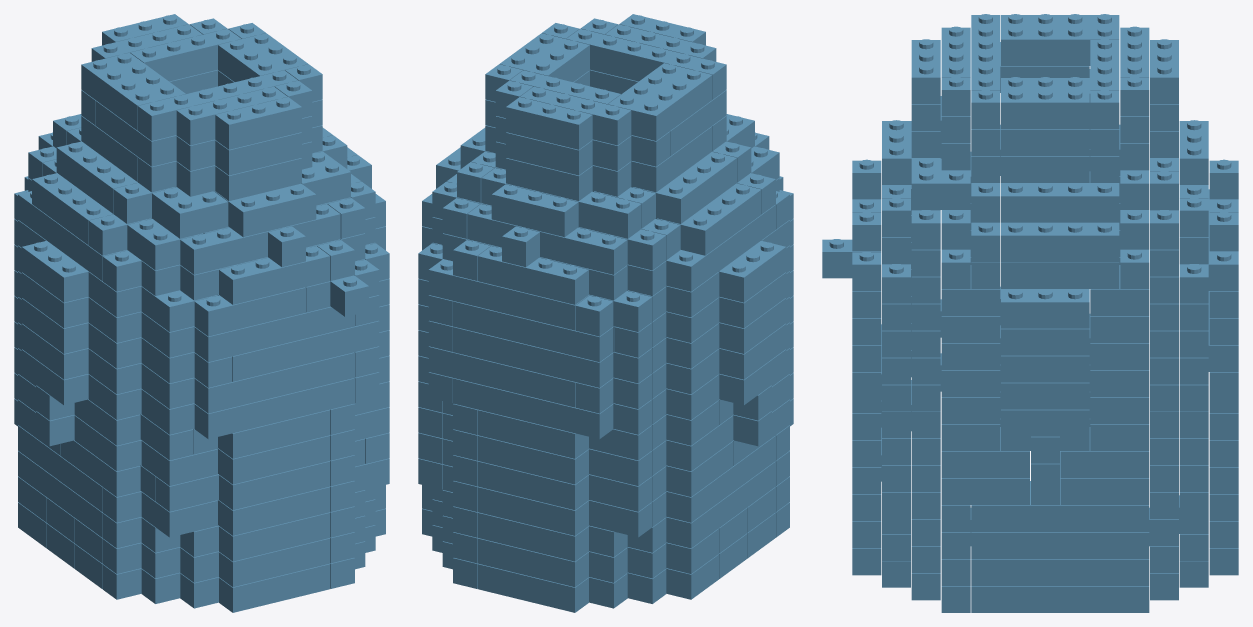
Rendered from 086_bottle_L1.glb.
3 renders of one model, left to right at view 1: azimuth 30°, elevation 25°; view 2: azimuth 150°, elevation 25°; view 3: azimuth 270°, elevation 25°, orthographic. The views are drawn at different scales.
Size of the model in its own units: 12.98 by 18.13 by 13.98.
